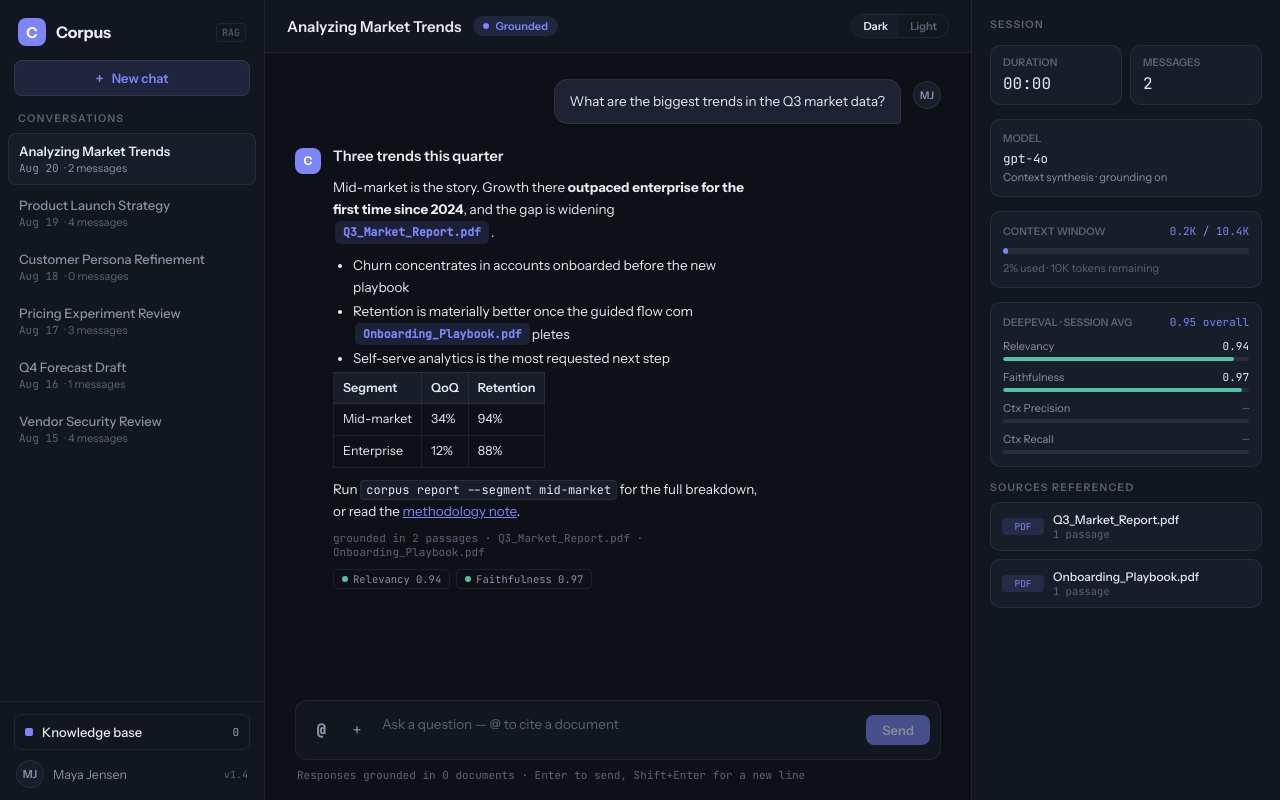
Test: the conversations list (FR-SBR-02/03/04/07) › follows FR-SBR-04 selection, loading that chat’s transcript
Check: the heading "Analyzing Market Trends" is shown, box [287,16,461,36]
Check: the text "0.2K / 10.4K" is shown, box [1170,224,1249,238]
Click the button "Product Launch Strategy Aug 19 · 4 messages". click: coordinates (132, 213)
box: [8,187,256,239]
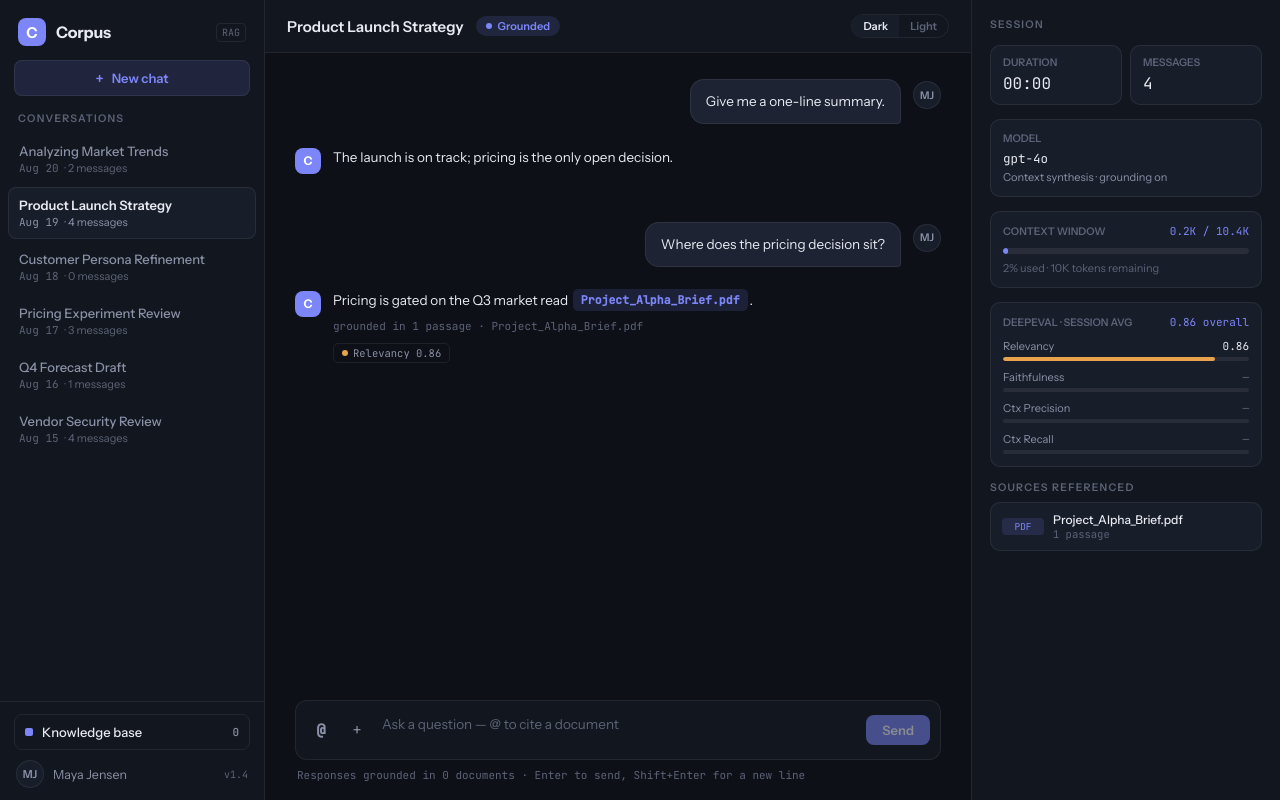
Check: the text "0.2K / 10.4K" is shown, box [1170,224,1249,238]
Check: the heading "Product Launch Strategy" is shown, box [287,16,464,36]
